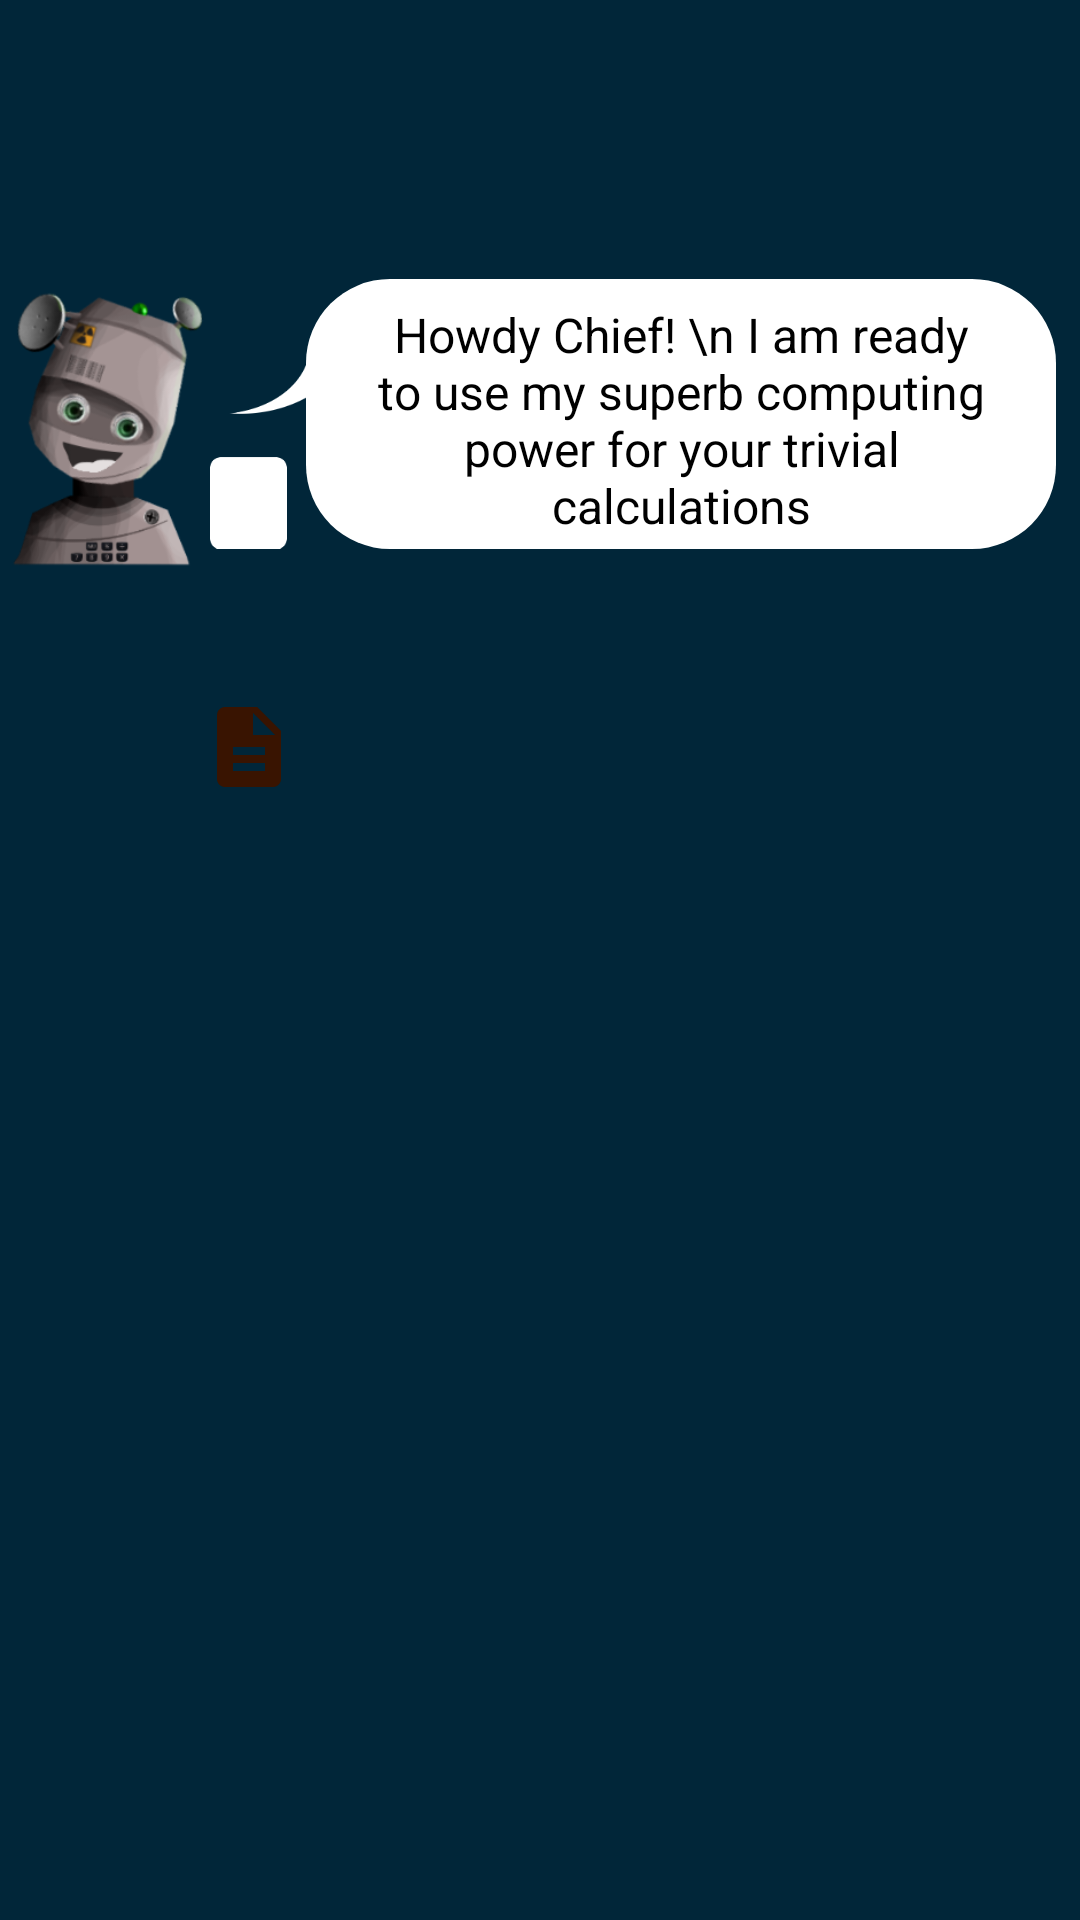

Named icons in this screenshot (1080 x 1920) and their bounding boxes, bbox=(x1, y1, x2, y2):
description: bbox=(217, 707, 281, 787)
robotgreetings: bbox=(14, 294, 202, 565)
